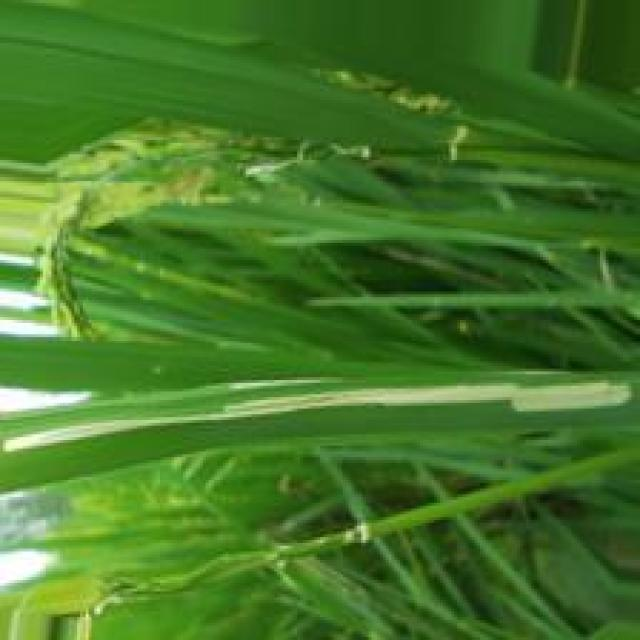Rice_Hispa: (6, 380, 634, 457)
